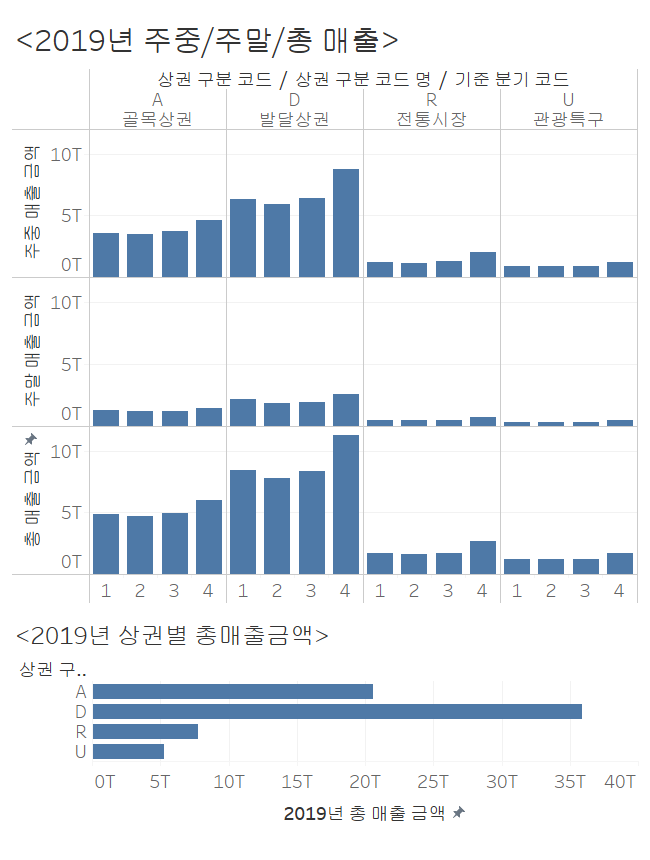

The dashboard page shown, as its layout file describes it:
{"tool":"tableau","page":{"name":"대시보드 1","canvas":[650,860],"ordinal":0},"visuals":[{"type":"worksheet","title":"2019_1","mark":"Automatic","rows":["주중_매출_금액","주말_매출_금액","Calculation_1875467832701407235"],"cols":["상권_구분_코드","상권_구분_코드_명","기준_분기_코드"],"box":[8,8,634,600]},{"type":"worksheet","title":"2019_2","mark":"Automatic","rows":["상권_구분_코드"],"cols":["Calculation_1875467832707293189"],"box":[8,608,634,244]}]}

Visuals, with their boxes in screenshot pixels (x1, y1, x2, y2), scaled from the page's 650x860 canvas onto the 650x860 screenshot:
"2019_1" worksheet: bbox=[8, 8, 642, 608]
"2019_2" worksheet: bbox=[8, 608, 642, 852]
